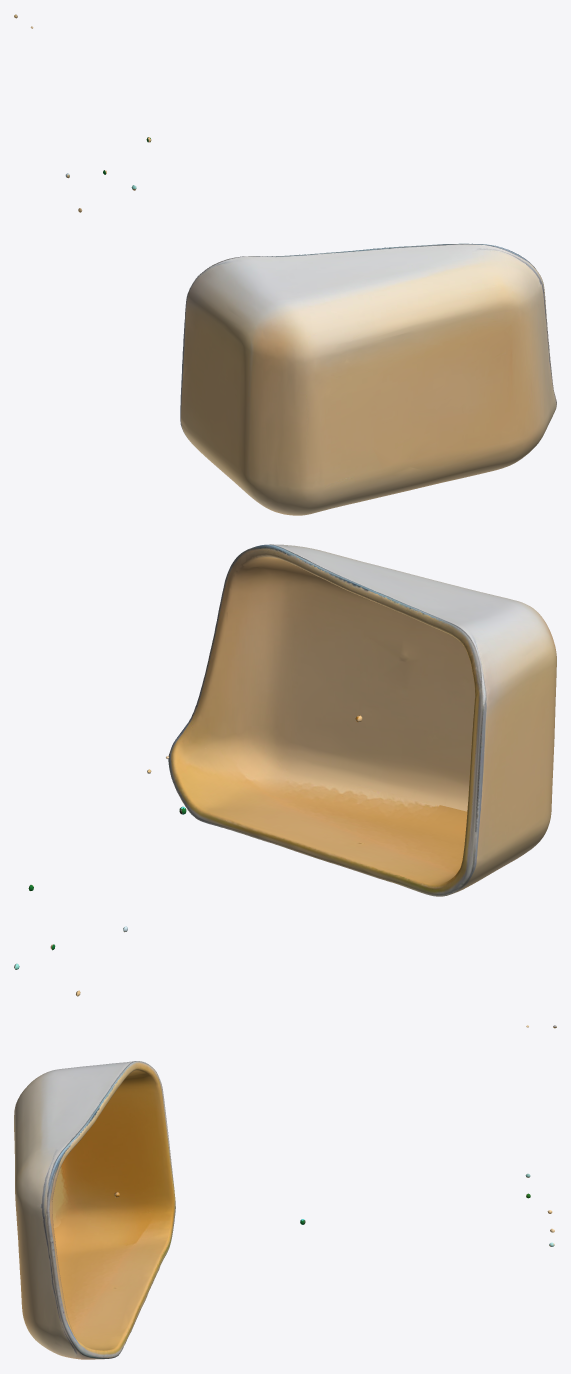
File: soap_002.glb
The picture shows the model from 3 angles, top to bottom: view 1: azimuth 30°, elevation 25°; view 2: azimuth 150°, elevation 25°; view 3: azimuth 270°, elevation 25°; orthographic projection. The views are drawn at different scales.
Visible parts, largest first — view 1: 262bc0ab-c17b-4329-ba51-9d2e1d38c763_texturing.obj; view 2: 262bc0ab-c17b-4329-ba51-9d2e1d38c763_texturing.obj; view 3: 262bc0ab-c17b-4329-ba51-9d2e1d38c763_texturing.obj.
Part boxes in pixels (box(x1,y1,x2,y2)): 262bc0ab-c17b-4329-ba51-9d2e1d38c763_texturing.obj: box(14, 14, 556, 515); 262bc0ab-c17b-4329-ba51-9d2e1d38c763_texturing.obj: box(14, 544, 556, 996); 262bc0ab-c17b-4329-ba51-9d2e1d38c763_texturing.obj: box(14, 1025, 556, 1359).
Size of the model in its own units: 0.1173 by 0.1 by 0.201.
Materials: 1 (1 with a texture image).
